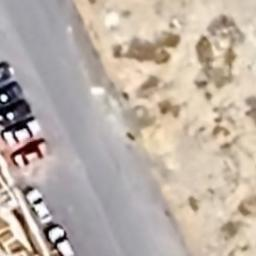SUV: (46, 224, 78, 256)
pickup: (0, 98, 32, 126)
sedan: (22, 183, 54, 225), (8, 137, 48, 168), (0, 120, 44, 144), (0, 80, 24, 104)
